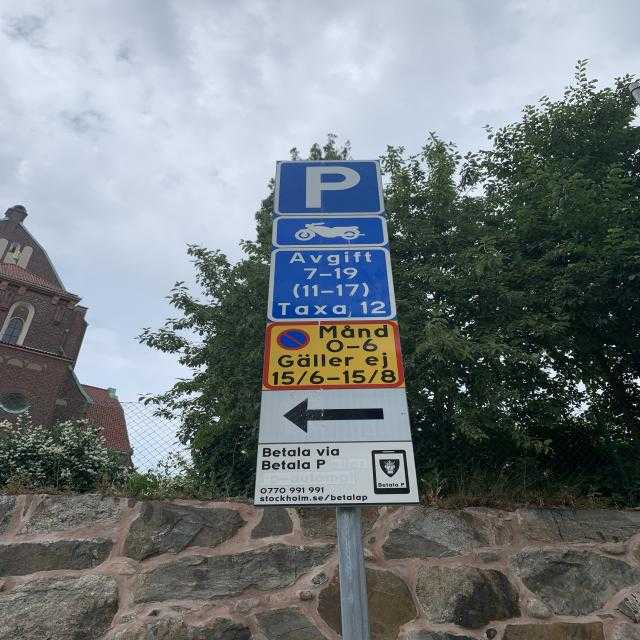lastplats: (274, 159, 385, 213)
